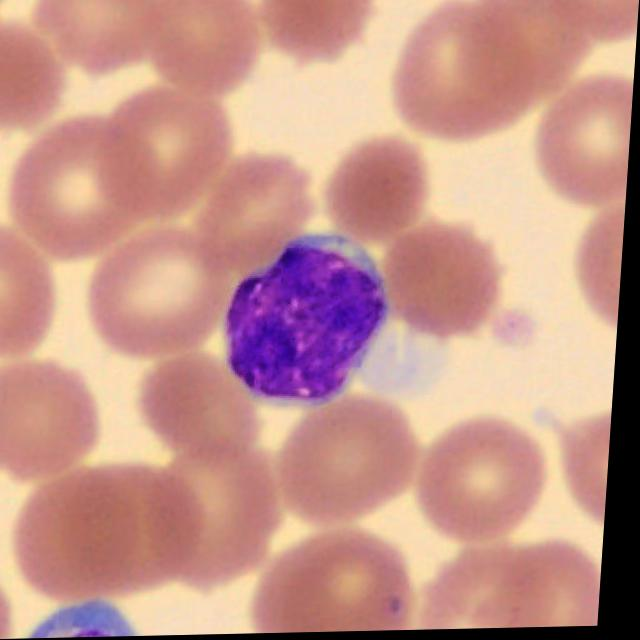Linfocito: (230, 234, 394, 406)
